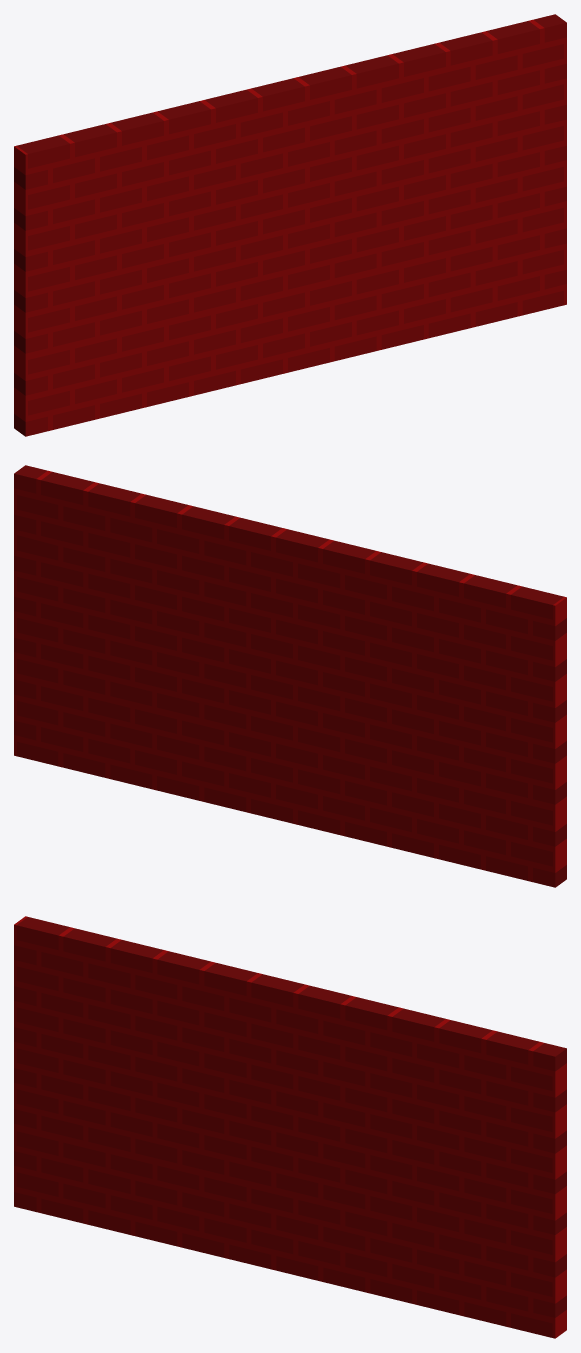
The model's file is RedBrickWall.glb.
The picture shows the model from 3 angles, top to bottom: view 1: azimuth 30°, elevation 25°; view 2: azimuth 150°, elevation 25°; view 3: azimuth 330°, elevation 25°; orthographic projection.
Parts seen in each view (by area): view 1: RedBrickWall; view 2: RedBrickWall; view 3: RedBrickWall.
Boxes of the visible parts, box(x1,y1,x2,y2) form: RedBrickWall: box(14, 14, 566, 436); RedBrickWall: box(14, 465, 566, 887); RedBrickWall: box(14, 916, 566, 1338).
Size of the model in its own units: 13.1 by 6.52 by 0.4827.
